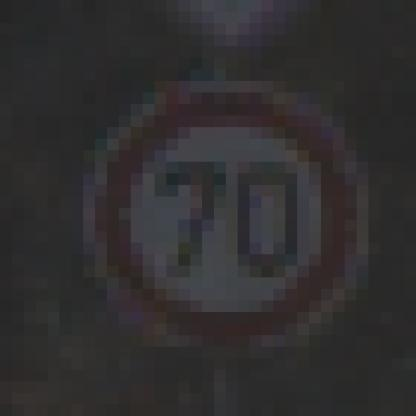Speed Limit 70: (91, 86, 362, 350)
